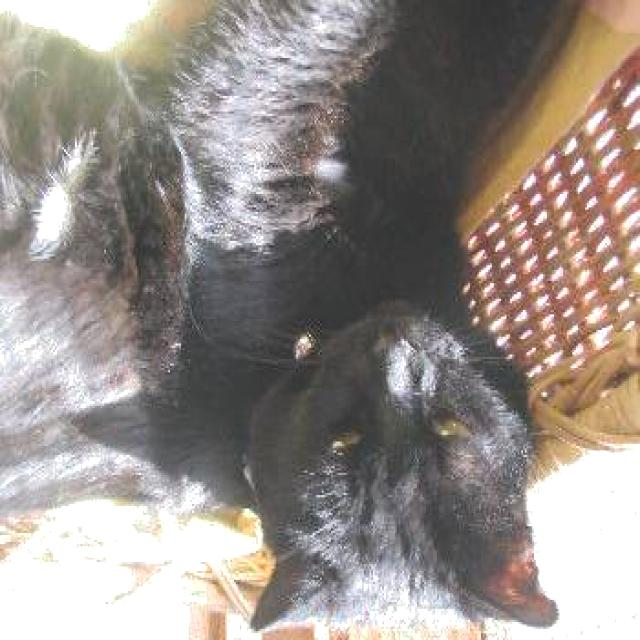Kucing: (123, 62, 612, 628)
